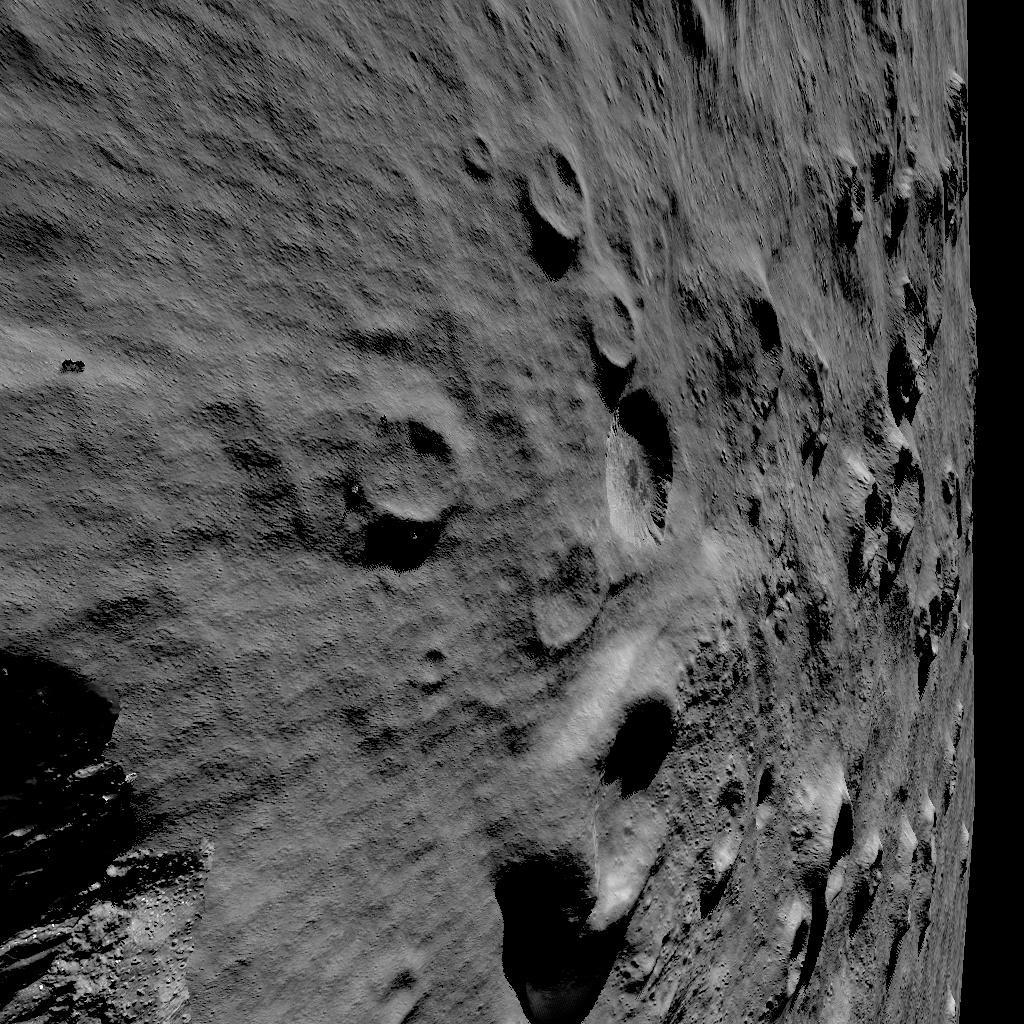Boulders: (0, 632, 171, 1024)
Crater: (486, 650, 680, 1010), (511, 138, 668, 542), (696, 730, 930, 989), (806, 295, 955, 640), (606, 0, 908, 100), (794, 115, 956, 260), (686, 290, 780, 485), (336, 410, 458, 535)
Plan surface: (0, 0, 475, 395), (190, 565, 470, 1024), (0, 422, 298, 542)
